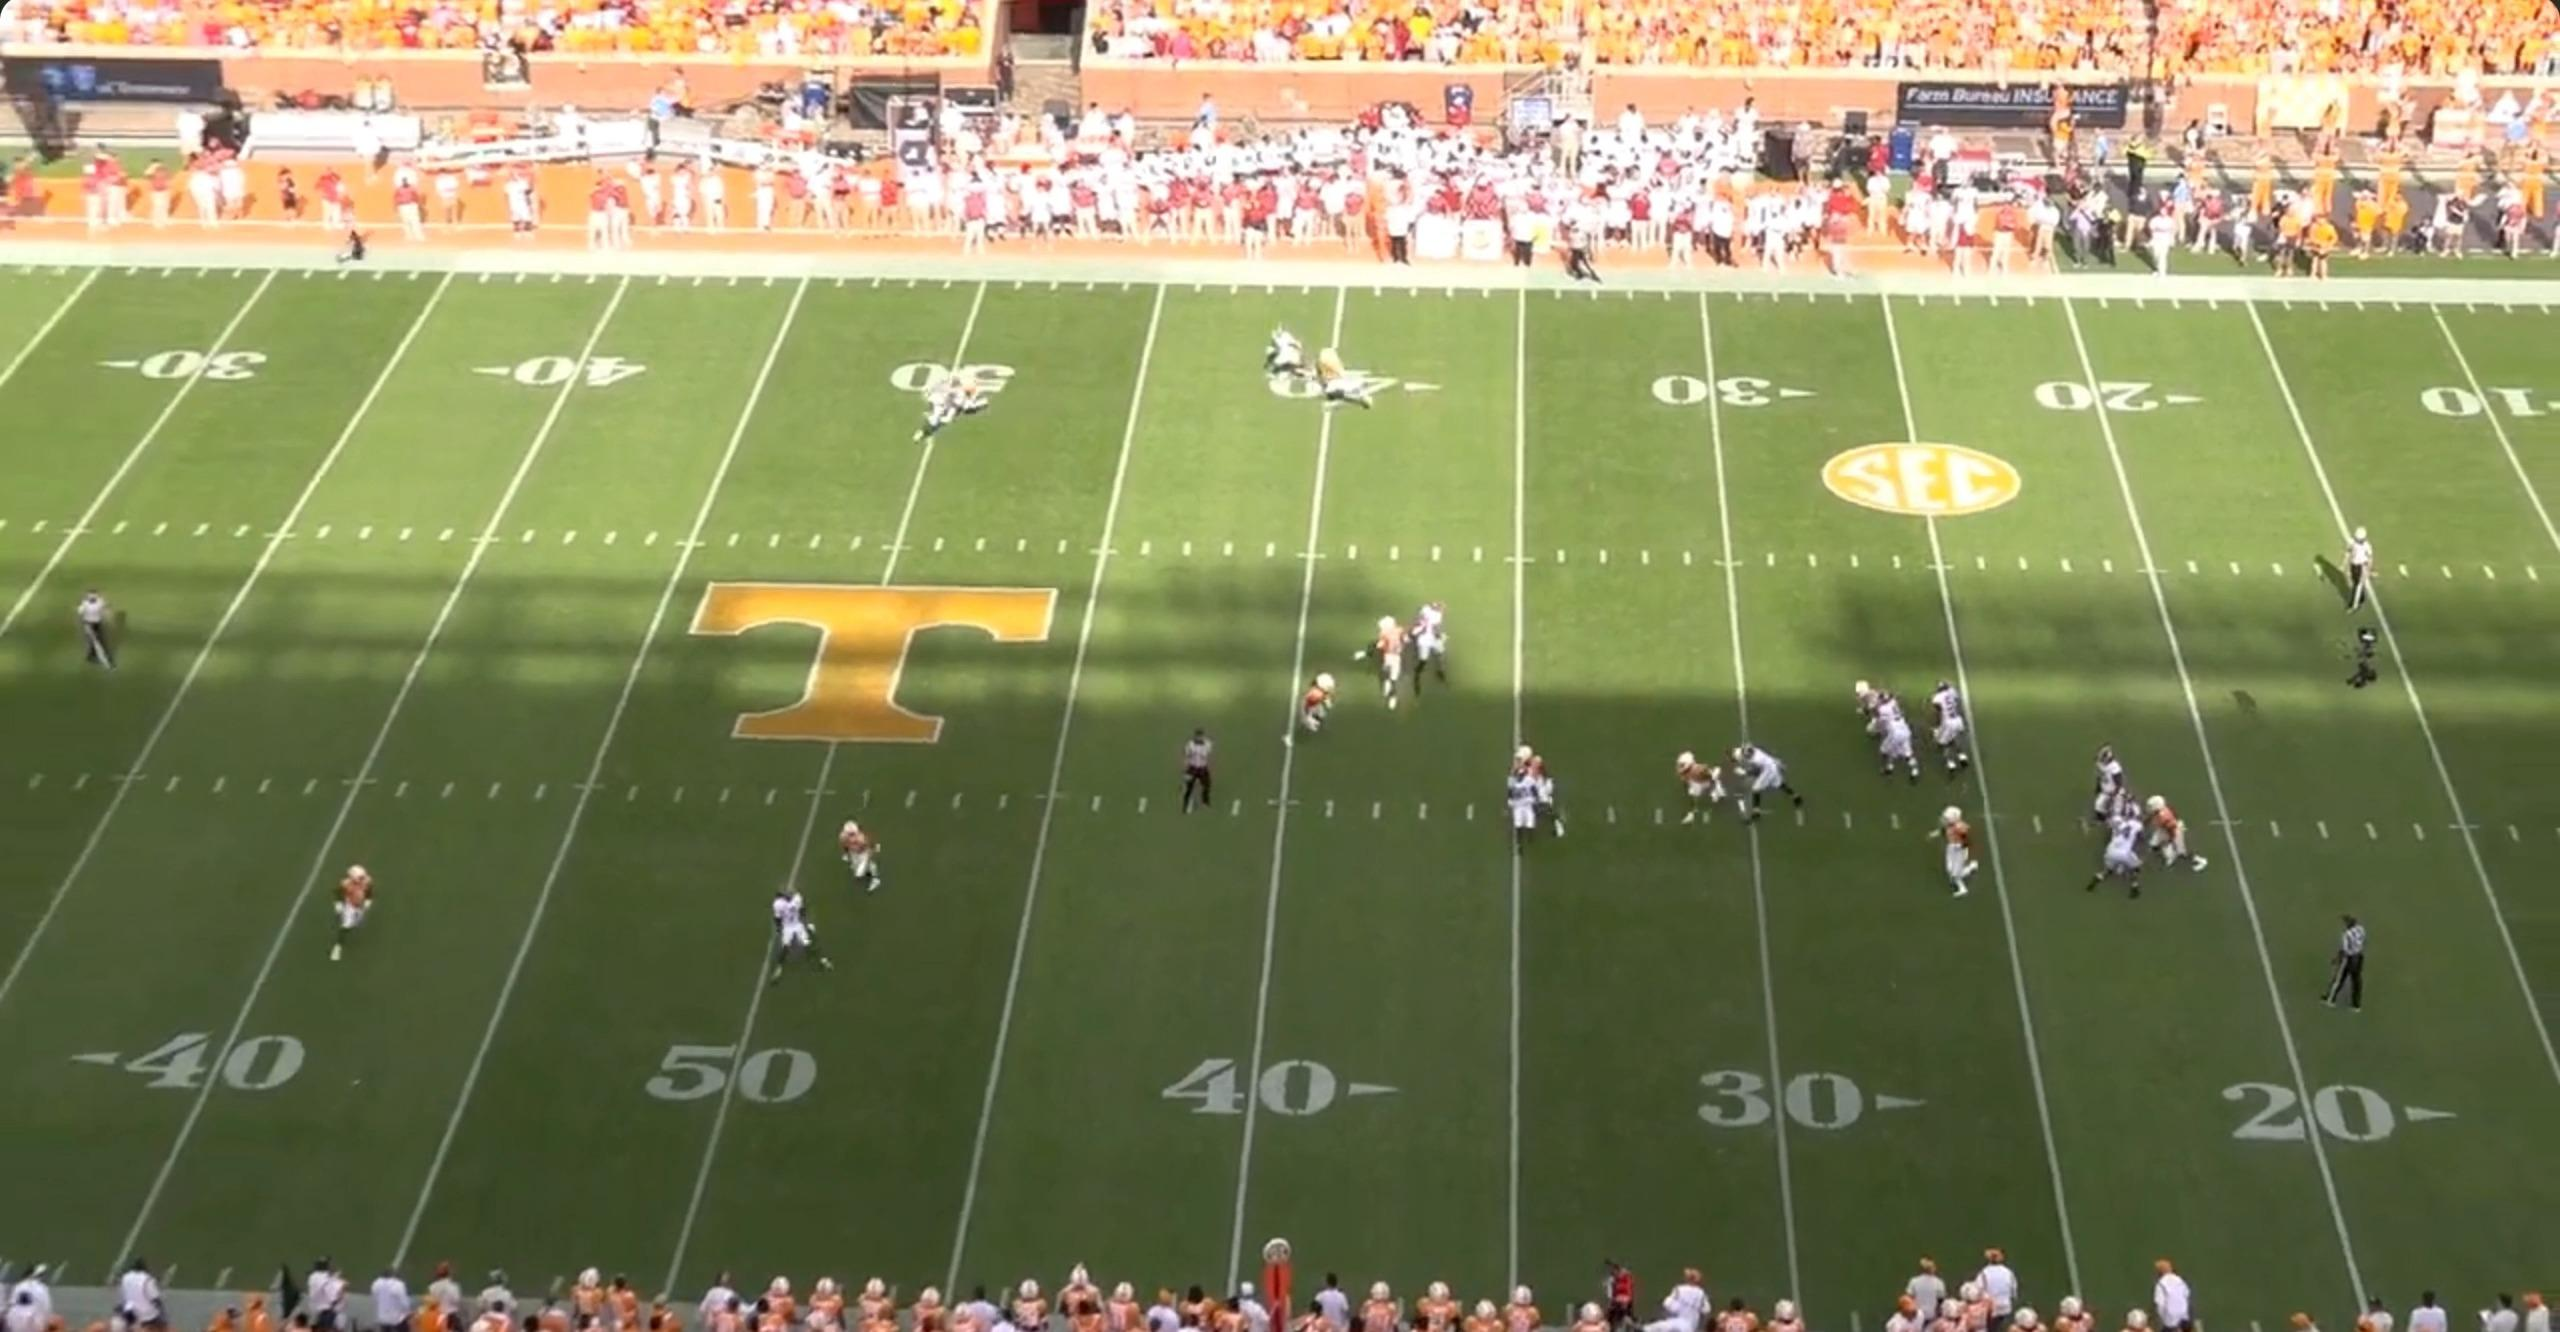defense: (320, 856, 379, 965), (2142, 789, 2211, 873), (1514, 746, 1573, 838), (1935, 806, 1986, 907), (1283, 670, 1343, 750), (836, 816, 892, 897), (1366, 614, 1412, 713), (1673, 743, 1729, 823), (1851, 679, 1898, 758), (1317, 344, 1373, 408), (948, 369, 997, 413)
oline: (1724, 736, 1803, 821), (2088, 806, 2155, 899), (1927, 677, 1979, 775), (1871, 689, 1922, 782), (2081, 740, 2128, 824)
qb: (2106, 787, 2143, 819)
ref: (2323, 914, 2372, 1017), (1178, 721, 1228, 816), (78, 591, 122, 677), (2338, 528, 2379, 616), (1558, 218, 1607, 286), (335, 200, 379, 271)
skill: (752, 887, 828, 988), (1405, 601, 1459, 696), (911, 377, 962, 454), (1263, 323, 1316, 388), (1507, 767, 1541, 856)
